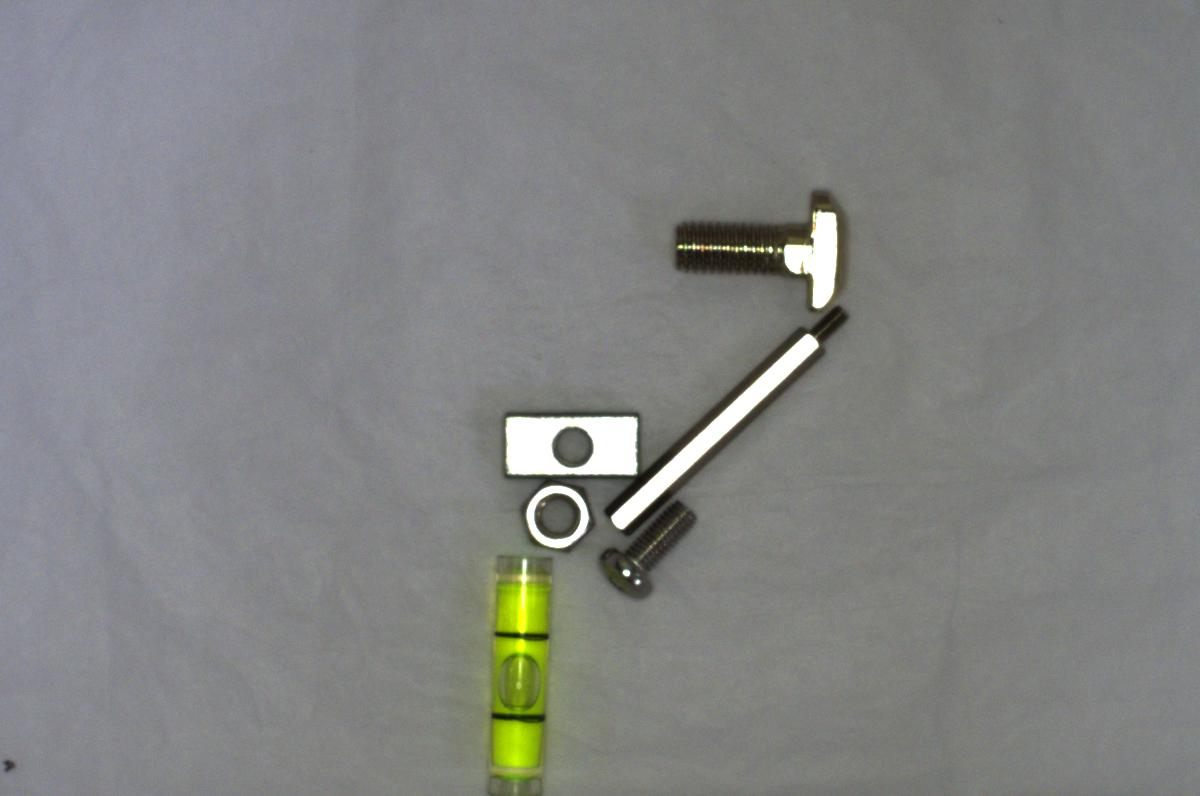Hexagon nut: (511, 479, 598, 556)
Hexagonal steel column: (590, 301, 852, 533)
Horizontal bubble: (474, 550, 562, 795)
Rectangular nut: (493, 405, 639, 482)
Round head screw: (593, 493, 699, 599)
T-shaped screw: (646, 182, 857, 313)
